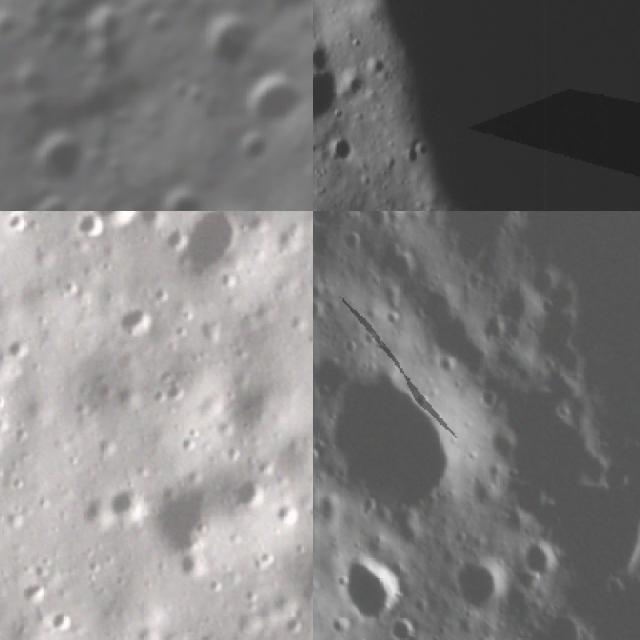crater: (316, 363, 482, 529), (13, 114, 108, 206), (189, 0, 274, 80), (232, 61, 312, 143), (146, 479, 227, 557), (179, 211, 253, 288), (343, 546, 397, 640), (138, 166, 226, 211), (230, 124, 289, 182), (457, 544, 494, 634), (491, 278, 548, 331), (527, 596, 586, 640), (313, 54, 347, 127), (244, 0, 313, 34), (106, 485, 150, 526), (522, 534, 555, 587), (114, 299, 156, 340), (0, 0, 28, 52), (19, 571, 56, 610), (234, 473, 270, 512), (163, 222, 195, 256), (326, 131, 356, 167), (91, 211, 147, 230), (388, 246, 419, 280), (4, 333, 38, 360), (385, 618, 422, 640), (313, 302, 337, 333), (274, 499, 301, 526), (80, 214, 106, 242), (50, 608, 76, 634), (342, 229, 362, 251)
